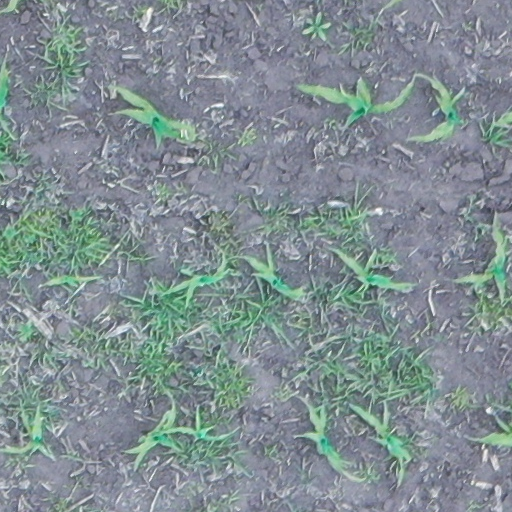planta: (124, 404, 239, 470), (296, 76, 415, 128), (107, 82, 199, 148), (156, 250, 243, 315), (346, 400, 412, 483), (409, 70, 467, 146), (298, 395, 350, 478), (330, 245, 416, 294), (241, 250, 308, 304), (43, 272, 103, 289), (184, 305, 191, 312)
